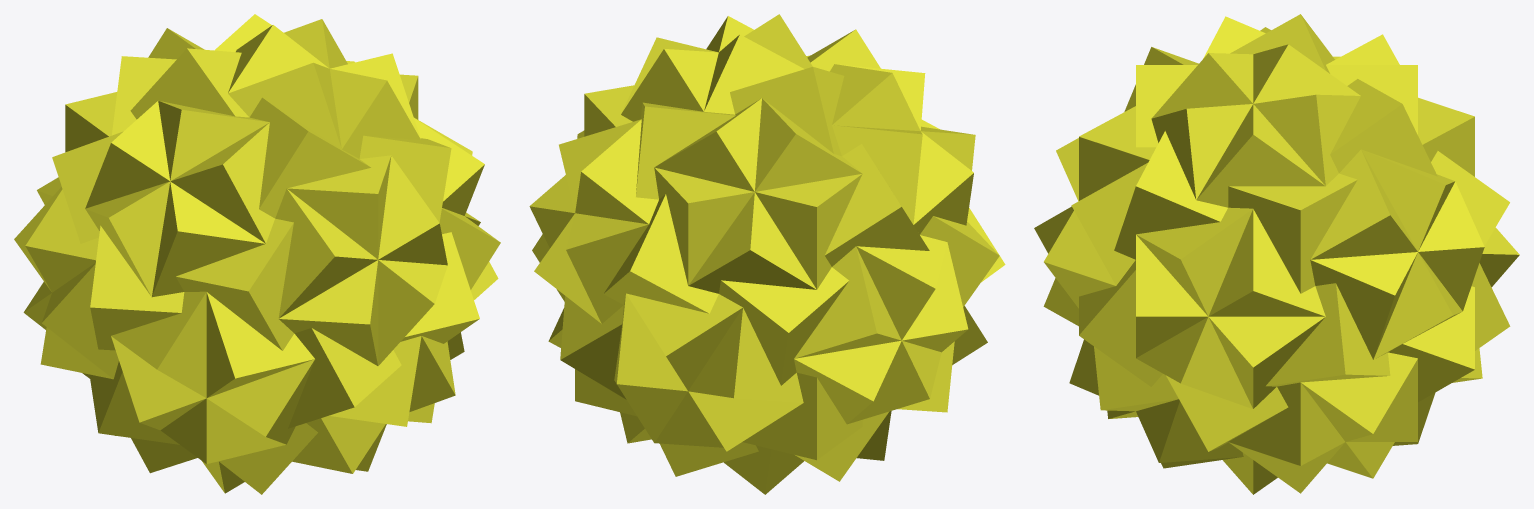
File: great_hexagonal_hexecontahedron.obj
The picture shows the model from 3 angles, left to right: view 1: azimuth 30°, elevation 25°; view 2: azimuth 150°, elevation 25°; view 3: azimuth 270°, elevation 25°; orthographic projection.
Parts seen in each view (by area): view 1: Shape_IndexedFaceSet; view 2: Shape_IndexedFaceSet; view 3: Shape_IndexedFaceSet.
Part boxes in pixels (<box>): Shape_IndexedFaceSet: <box>14,14,500,494</box>; Shape_IndexedFaceSet: <box>529,14,1005,494</box>; Shape_IndexedFaceSet: <box>1034,14,1519,494</box>.
Bounding box in the file's own units: 2.44 × 2.44 × 2.44.
